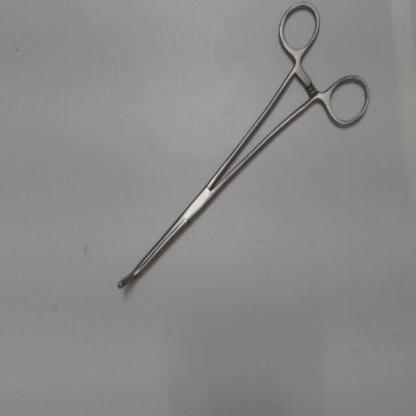Lahey Forceps: (108, 0, 372, 309)
